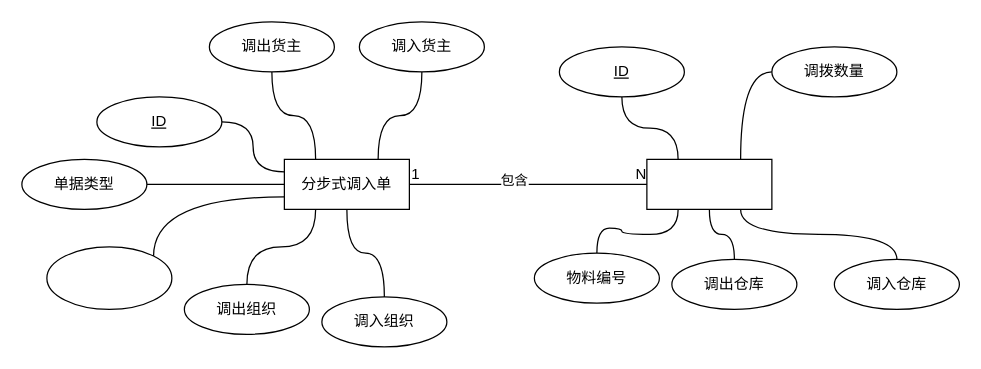
Image size: 981x369. Some labels were removed from this diagram. Each missing label, with the centre of its shape:
"业务类型" goes at point 109,277.
"分步式调入单明细" goes at point 709,183.
